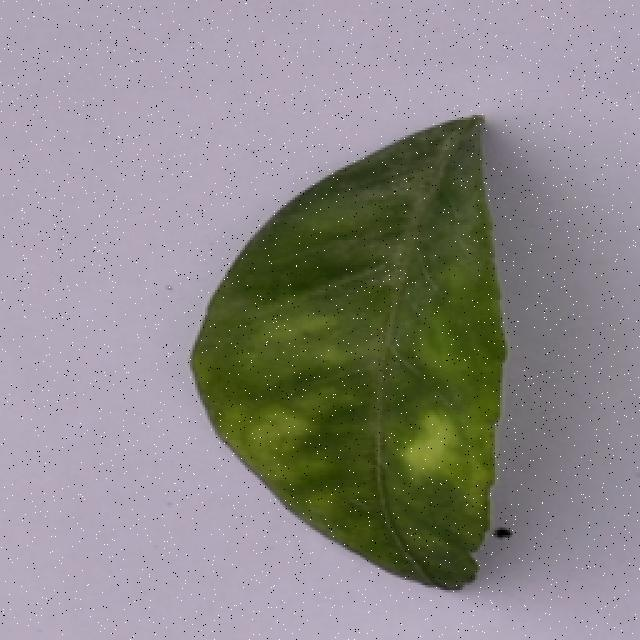greening: (187, 90, 516, 601)
